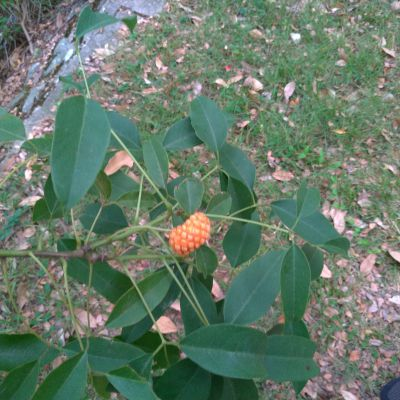eggs: (166, 207, 214, 255)
